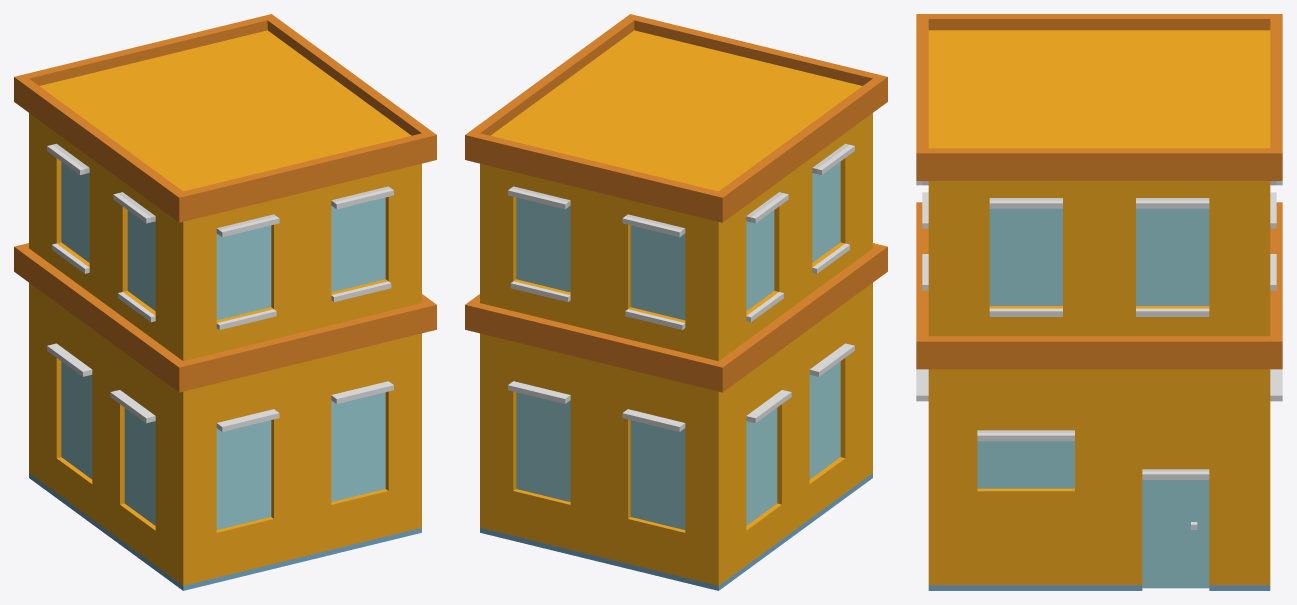
The model's file is Yhouse.obj.
The picture shows the model from 3 angles, left to right: view 1: azimuth 30°, elevation 25°; view 2: azimuth 150°, elevation 25°; view 3: azimuth 270°, elevation 25°; orthographic projection. The views are drawn at different scales.
Size of the model in its own units: 5.4 by 8 by 6.
Materials: 1 (1 with a texture image).
